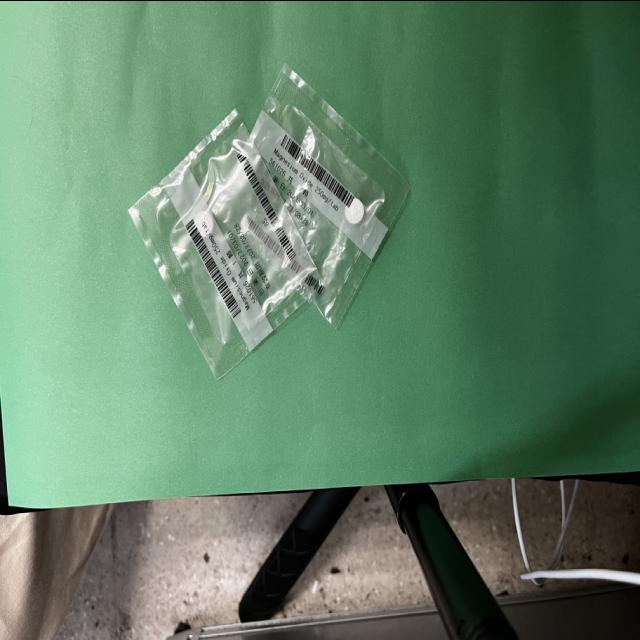Other Objects: (128, 111, 322, 377), (250, 65, 408, 325)
